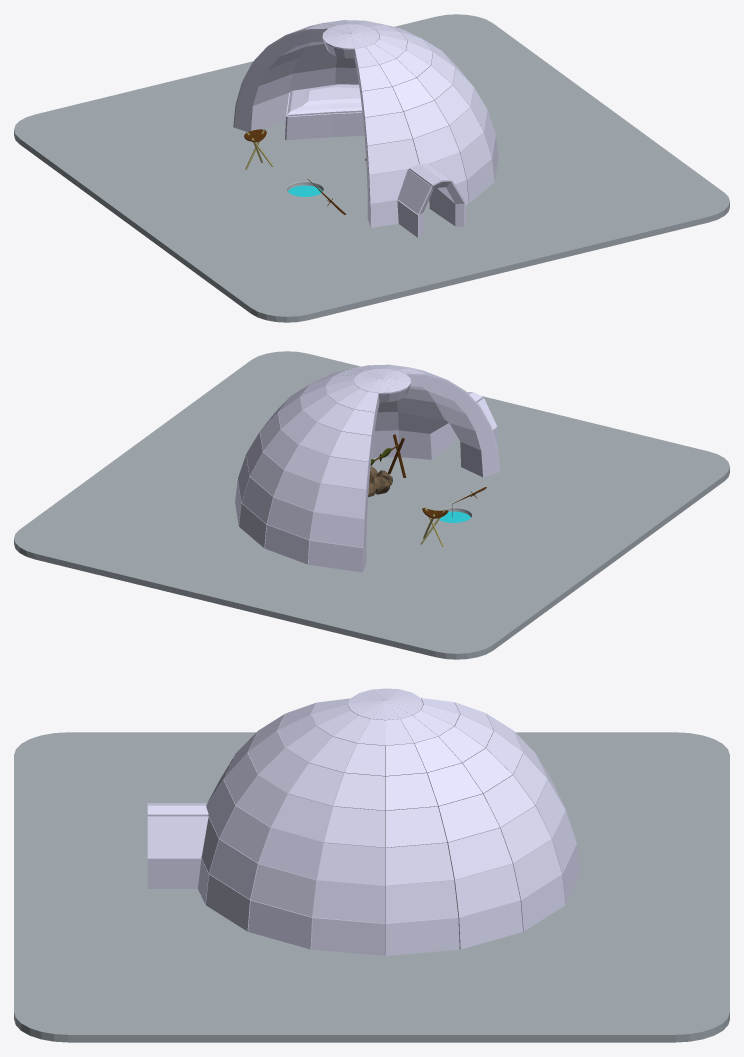
The model's file is snow.fbx.
3 views of the same model, one above another, from view 1: azimuth 30°, elevation 25°; view 2: azimuth 150°, elevation 25°; view 3: azimuth 270°, elevation 25° (orthographic). The views are drawn at different scales.
Visible parts, largest first — view 1: Cube, Igloo_Igloo_0; view 2: Cube, Igloo_Igloo_0, Chaise_Material.002_0, Cube_Material.001_0; view 3: Cube, Igloo_Igloo_0.
Boxes of the visible parts, bbox=[...] form: Cube: bbox=[14, 14, 729, 322]; Igloo_Igloo_0: bbox=[233, 20, 498, 237]; Cube: bbox=[14, 351, 729, 659]; Igloo_Igloo_0: bbox=[235, 364, 500, 572]; Chaise_Material.002_0: bbox=[375, 434, 486, 518]; Cube_Material.001_0: bbox=[368, 466, 392, 496]; Cube: bbox=[14, 732, 729, 1042]; Igloo_Igloo_0: bbox=[147, 688, 580, 955].
Size of the model in its own units: 37117 by 12317 by 37117.
